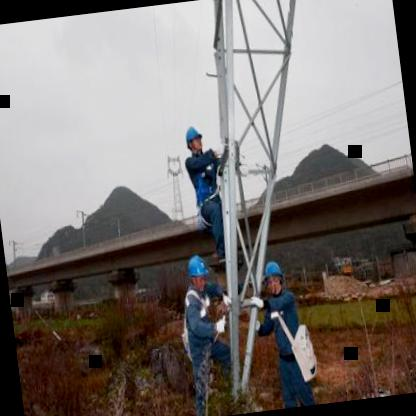helmet: (182, 251, 212, 294), (180, 118, 206, 163), (260, 256, 286, 296)
